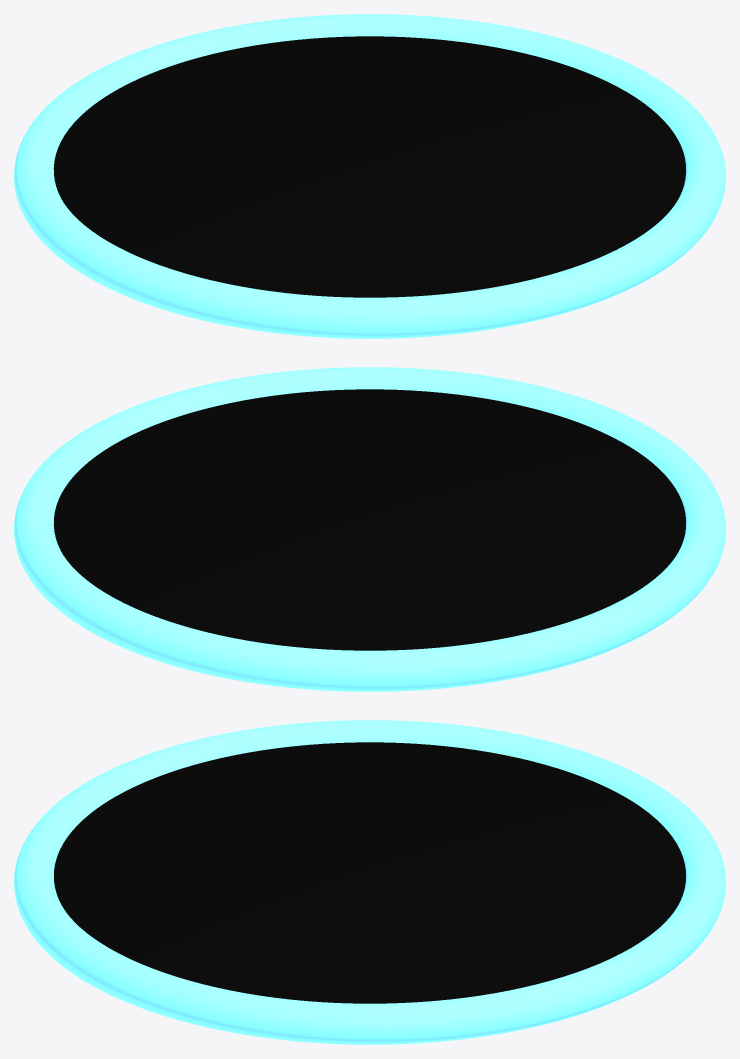
Rendered from eclipse_portal_ring.glb.
The picture shows the model from 3 angles, top to bottom: view 1: azimuth 30°, elevation 25°; view 2: azimuth 150°, elevation 25°; view 3: azimuth 270°, elevation 25°; orthographic projection.
Visible parts, largest first — view 1: Eclipse_VoidDisc, Eclipse_HaloRing; view 2: Eclipse_VoidDisc, Eclipse_HaloRing; view 3: Eclipse_VoidDisc, Eclipse_HaloRing.
Boxes of the visible parts, left/top/right/bottom form: Eclipse_VoidDisc: left=53, top=36, right=686, bottom=297; Eclipse_HaloRing: left=14, top=14, right=725, bottom=338; Eclipse_VoidDisc: left=53, top=389, right=686, bottom=650; Eclipse_HaloRing: left=14, top=367, right=725, bottom=691; Eclipse_VoidDisc: left=54, top=742, right=685, bottom=1003; Eclipse_HaloRing: left=14, top=720, right=725, bottom=1044.
Size of the model in its own units: 6.92 by 0.4 by 6.92.
